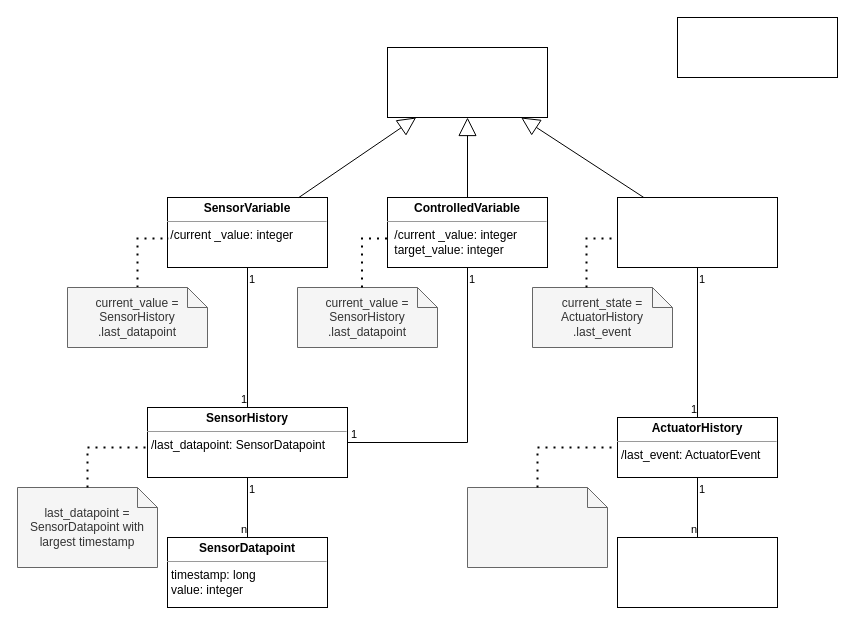
Some shapes in this 855 by 625 pixel diagram are drawn without their labels. The shapes that lost their labels are listed below. From the top down, each one's centre as x and y in pixels, then its label:
At point 757,47: "StreamSnapshot image: byte[]".
At point 467,82: "Variable (abstrakt) name: String".
At point 697,232: "ActuatorVariable /current_state: integer".
At point 537,527: "last_event = ActuatorEvent with largest timestamp".
At point 697,572: "ActuatorEvent timestamp: long new_state: integer".
